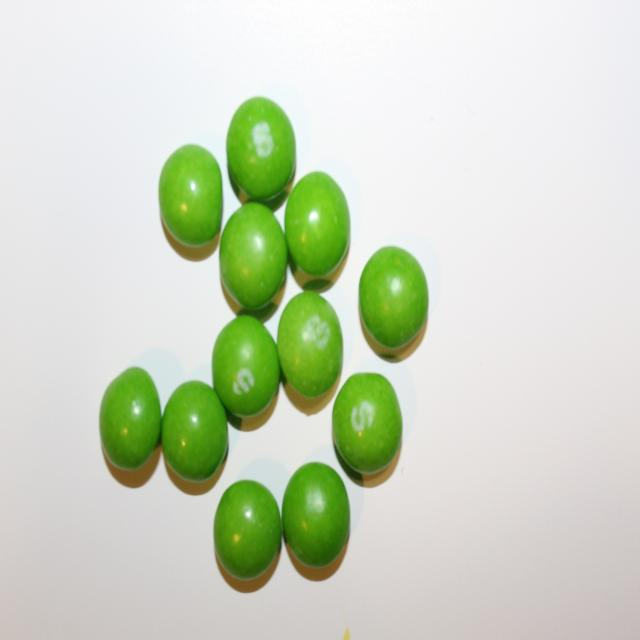smartie: (219, 201, 288, 309), (227, 96, 296, 200), (332, 373, 403, 474), (359, 246, 429, 348), (282, 463, 350, 568), (277, 291, 343, 397), (212, 315, 280, 417), (213, 481, 282, 580), (285, 171, 350, 276), (161, 381, 228, 482), (158, 144, 222, 246), (99, 367, 161, 470)
